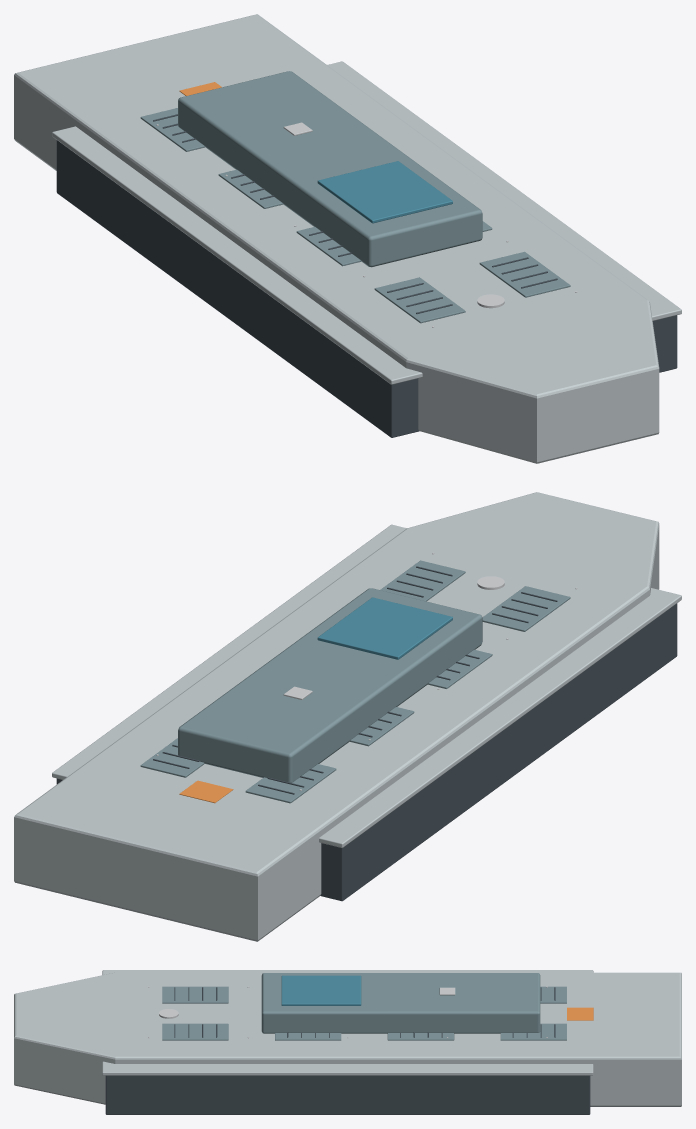
The picture shows the model from 3 angles, top to bottom: view 1: azimuth 30°, elevation 25°; view 2: azimuth 150°, elevation 25°; view 3: azimuth 270°, elevation 25°; orthographic projection. The views are drawn at different scales.
Visible parts, largest first — view 1: carrier-core; view 2: carrier-core; view 3: carrier-core.
Part boxes in pixels (bbox=[...]): carrier-core: bbox=[14, 14, 681, 463]; carrier-core: bbox=[14, 492, 681, 941]; carrier-core: bbox=[14, 970, 681, 1114].
Bounding box in the file's own units: 10.98 × 4.24 × 30.2.
